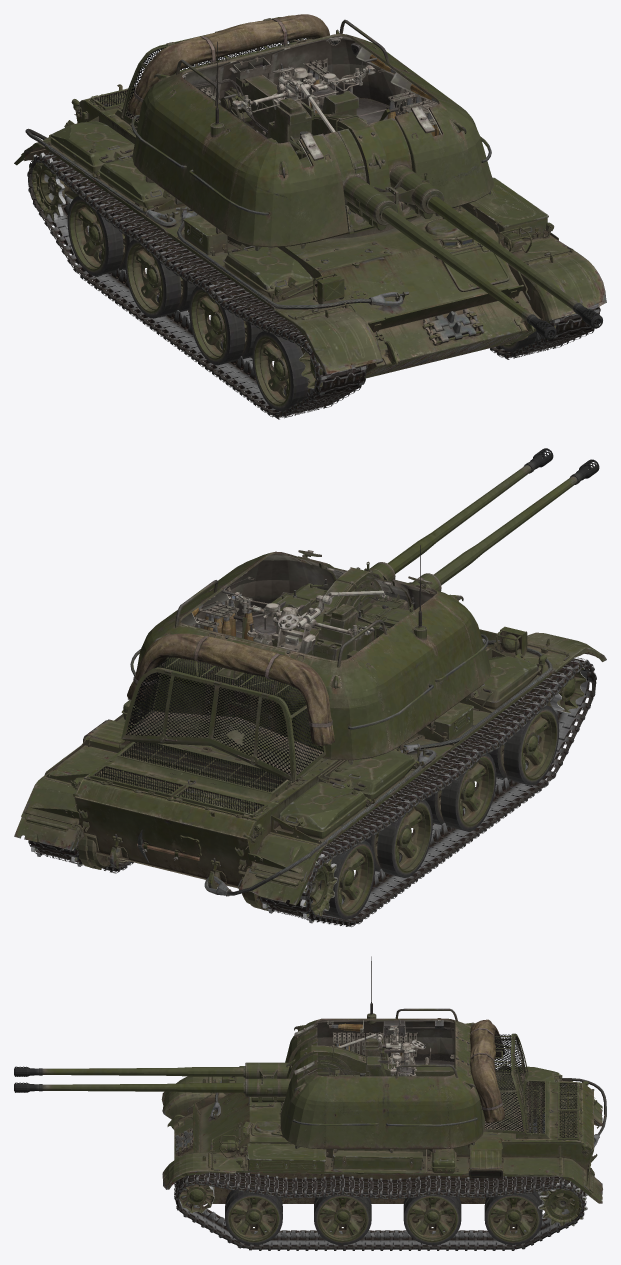
File: ZSU-57-2.obj
3 renders of one model, top to bottom at view 1: azimuth 30°, elevation 25°; view 2: azimuth 150°, elevation 25°; view 3: azimuth 270°, elevation 25°, orthographic. The views are drawn at different scales.
Parts seen in each view (by area): view 1: vehicle#bone_turret_34, vehicle#x_root_70, vehicle#track_r_29, vehicle#gun_mask_37, vehicle#ex_decor_03_42, vehicle#ex_decor_r_01_4, vehicle#ex_decor_l_01_5, vehicle#wheel_r_02_52, vehicle#wheel_r_01_33, vehicle#wheel_r_03_54, vehicle#wheel_r_04_58, vehicle#ex_armor_body_r_01_59 (+17 smaller); view 2: vehicle#bone_turret_34, vehicle#x_root_70, vehicle#track_r_29, vehicle#ex_decor_04_44, vehicle#ex_decor_03_42, vehicle#gun_mask_37, vehicle#ex_decor_r_07_1, vehicle#wheel_r_01_33, vehicle#ex_armor_body_r_04_66, vehicle#wheel_r_02_52, vehicle#wheel_r_03_54, vehicle#ex_decor_08_47 (+20 smaller); view 3: vehicle#bone_turret_34, vehicle#x_root_70, vehicle#track_l_30, vehicle#gun_mask_37, vehicle#wheel_l_01_31, vehicle#wheel_l_04_56, vehicle#ex_decor_03_42, vehicle#wheel_l_03_55, vehicle#wheel_l_02_53, vehicle#ex_decor_04_44, vehicle#ex_armor_body_l_01_67, vehicle#gun_barrel_01_40 (+19 smaller).
Part boxes in pixels (box(x1,y1,x2,y2)): vehicle#bone_turret_34: box(131, 19, 494, 250); vehicle#x_root_70: box(43, 84, 573, 378); vehicle#track_r_29: box(27, 152, 367, 419); vehicle#gun_mask_37: box(267, 90, 444, 230); vehicle#ex_decor_03_42: box(128, 14, 329, 118); vehicle#ex_decor_r_01_4: box(293, 308, 382, 374); vehicle#ex_decor_l_01_5: box(517, 252, 606, 321); vehicle#wheel_r_02_52: box(189, 285, 263, 365); vehicle#wheel_r_01_33: box(252, 331, 314, 411); vehicle#wheel_r_03_54: box(125, 240, 196, 318); vehicle#wheel_r_04_58: box(67, 196, 133, 276); vehicle#ex_armor_body_r_01_59: box(223, 244, 313, 298); vehicle#bone_turret_34: box(130, 550, 491, 764); vehicle#x_root_70: box(24, 642, 569, 910); vehicle#track_r_29: box(260, 657, 596, 927); vehicle#ex_decor_04_44: box(121, 658, 325, 781); vehicle#ex_decor_03_42: box(127, 633, 334, 745); vehicle#gun_mask_37: box(258, 561, 441, 660); vehicle#ex_decor_r_07_1: box(204, 833, 324, 905); vehicle#wheel_r_01_33: box(488, 706, 559, 785); vehicle#ex_armor_body_r_04_66: box(278, 775, 367, 838); vehicle#wheel_r_02_52: box(425, 753, 496, 831); vehicle#wheel_r_03_54: box(365, 800, 432, 877); vehicle#ex_decor_08_47: box(126, 672, 214, 737); vehicle#bone_turret_34: box(279, 1003, 483, 1152); vehicle#x_root_70: box(167, 1076, 598, 1203); vehicle#track_l_30: box(174, 1172, 586, 1250); vehicle#gun_mask_37: box(243, 1038, 395, 1102); vehicle#wheel_l_01_31: box(225, 1190, 282, 1245); vehicle#wheel_l_04_56: box(484, 1192, 542, 1244); vehicle#ex_decor_03_42: box(470, 1019, 504, 1122); vehicle#wheel_l_03_55: box(403, 1195, 461, 1245); vehicle#wheel_l_02_53: box(314, 1195, 371, 1245); vehicle#ex_decor_04_44: box(469, 1033, 529, 1134); vehicle#ex_armor_body_l_01_67: box(244, 1143, 328, 1171); vehicle#gun_barrel_01_40: box(14, 1066, 243, 1076).
Size of the model in its own units: 3.25 by 3.28 by 8.31.
8 materials, 8 textured.
